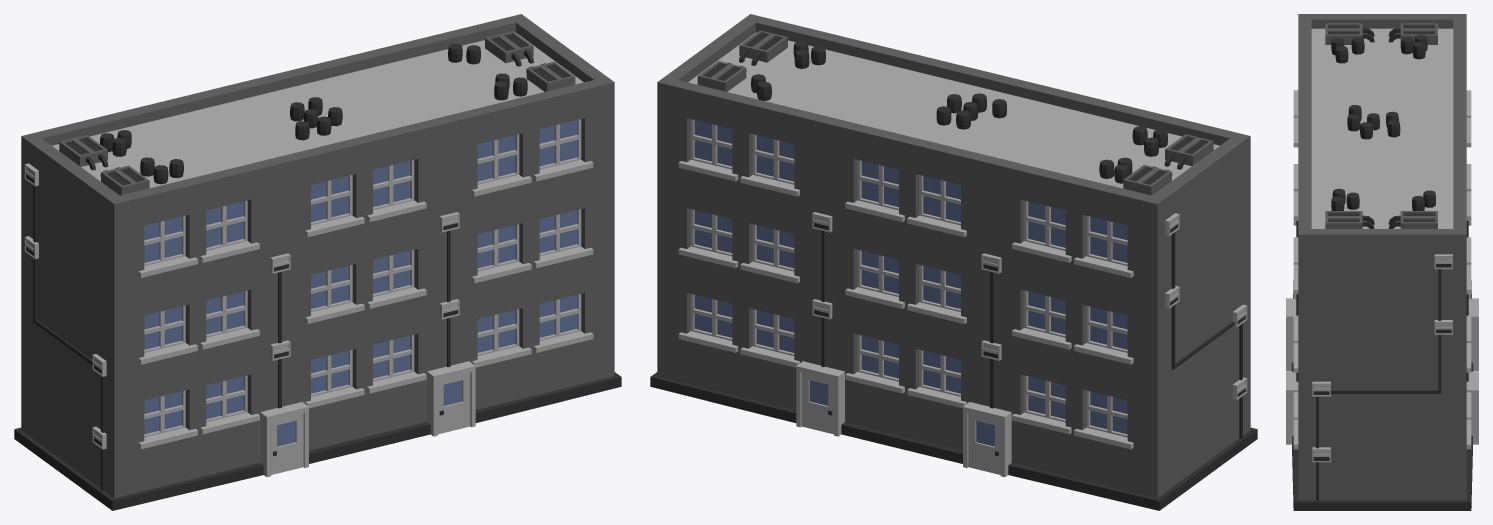
Rendered from Building2_4.fbx.
3 renders of one model, left to right at view 1: azimuth 30°, elevation 25°; view 2: azimuth 150°, elevation 25°; view 3: azimuth 270°, elevation 25°, orthographic. The views are drawn at different scales.
Parts seen in each view (by area): view 1: Building2_3.001; view 2: Building2_3.001; view 3: Building2_3.001.
Part boxes in pixels (x1,y1,x2,y2): Building2_3.001: (14, 14, 621, 510); Building2_3.001: (650, 14, 1257, 510); Building2_3.001: (1286, 14, 1478, 510).
Size of the model in its own units: 1130 by 652 by 410.
